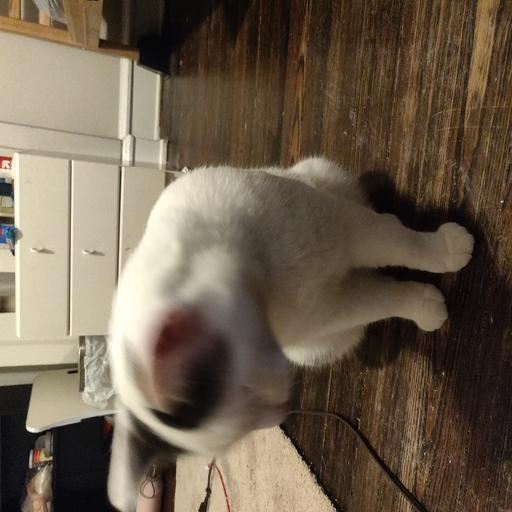cat: (102, 152, 446, 496)
